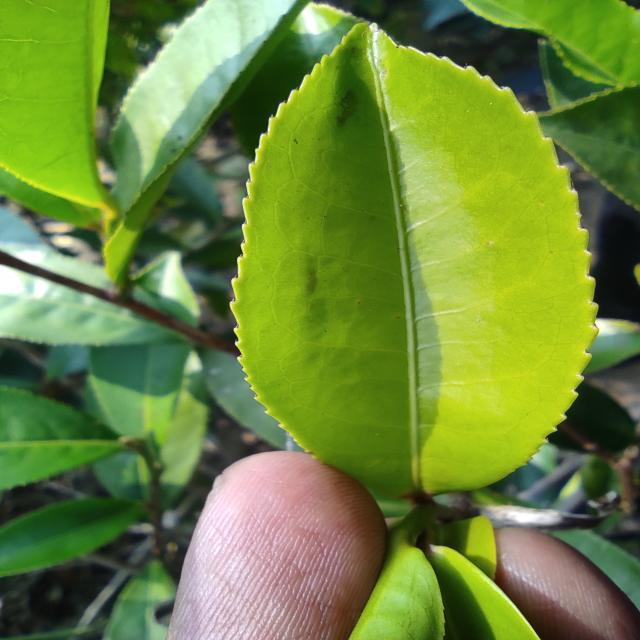Category C(4-7 days): (219, 6, 614, 521)
